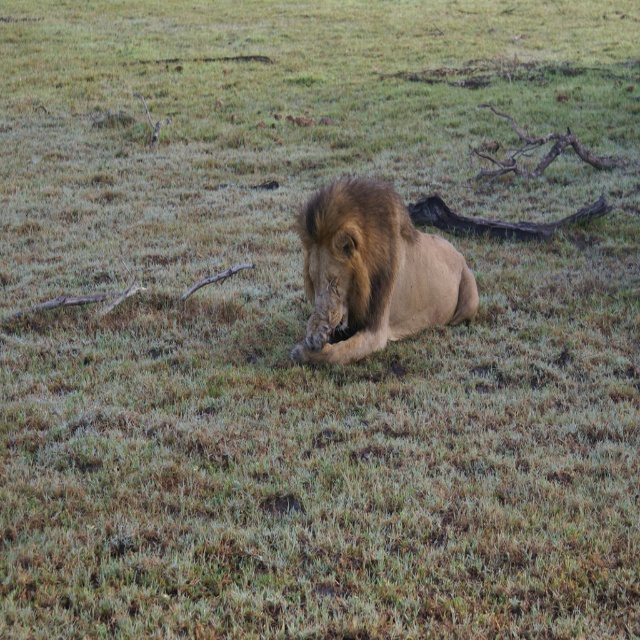Lion: (291, 175, 480, 371)
